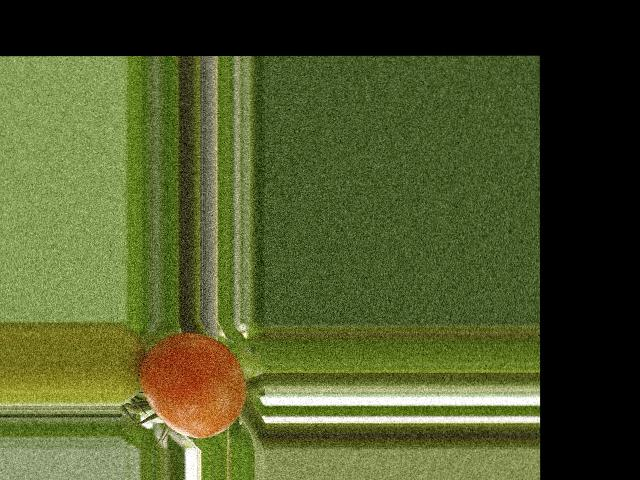tomato: (139, 332, 245, 438)
